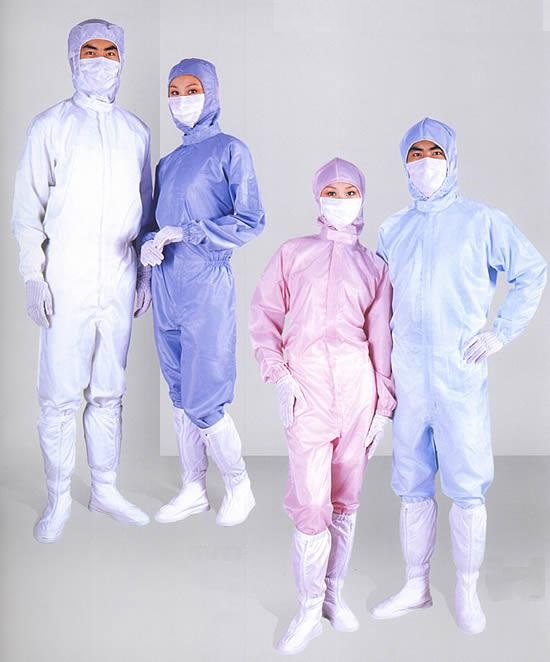face_mask: (77, 33, 118, 94), (319, 176, 361, 233), (406, 136, 448, 192), (168, 71, 207, 127)
